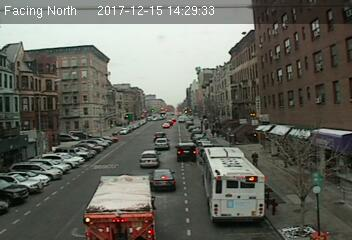bus: (202, 147, 265, 224)
car: (150, 168, 177, 190), (175, 143, 198, 164), (139, 150, 159, 167), (155, 138, 169, 150)
pedestrian: (251, 148, 260, 166)
truck: (83, 175, 156, 240)
